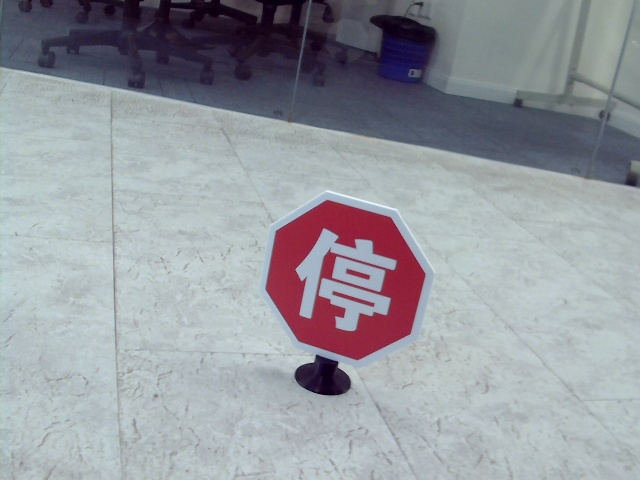stop: (298, 225, 394, 328)
